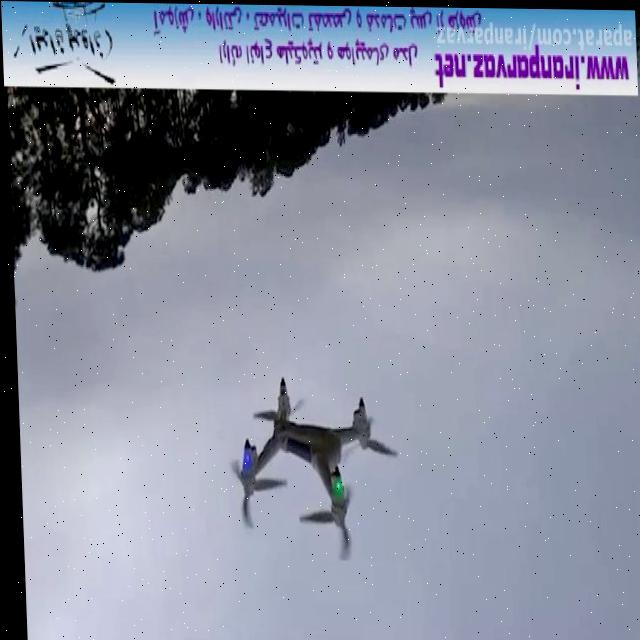drone: (219, 370, 400, 564)
